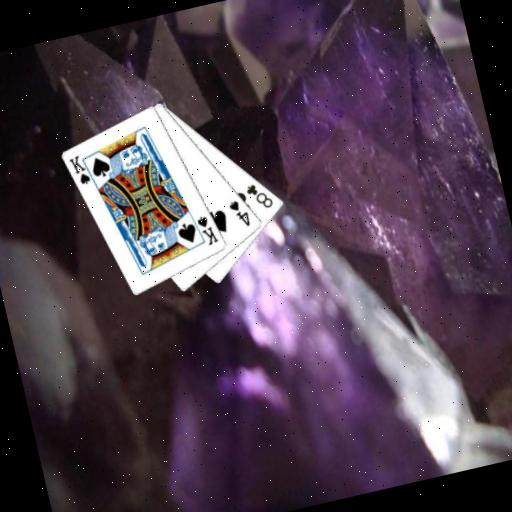4S: (225, 195, 253, 232)
8C: (242, 177, 277, 214)
KS: (65, 150, 98, 190), (193, 211, 222, 250)
